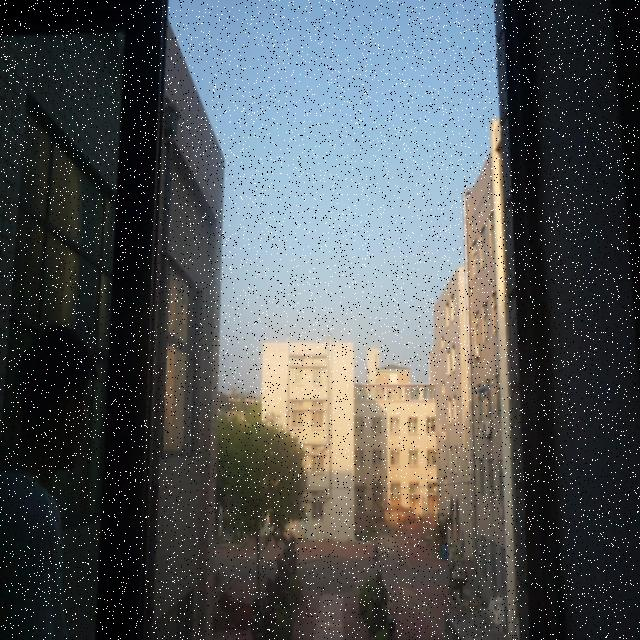UAV: (472, 384, 494, 400)
